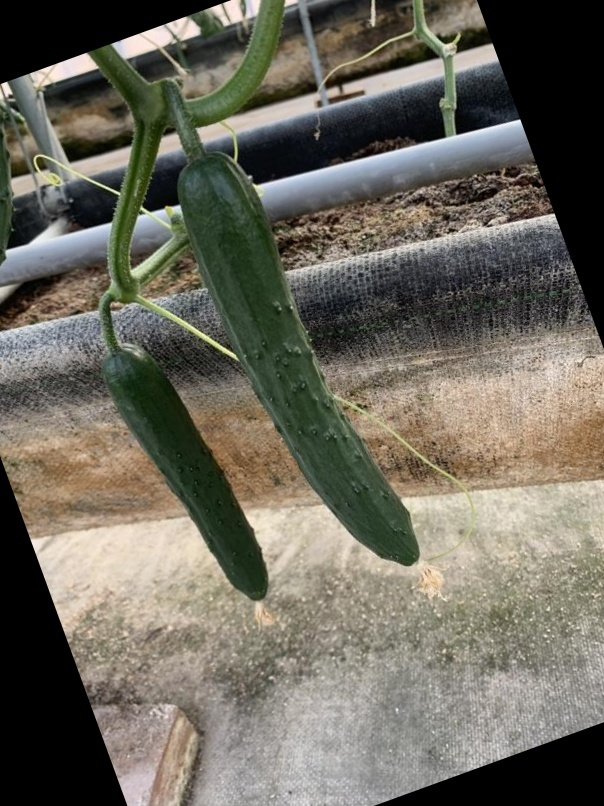mature: (171, 152, 424, 585), (99, 338, 271, 607)
